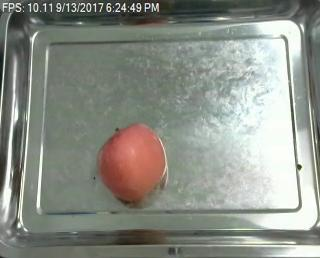apple: (96, 123, 168, 202)
